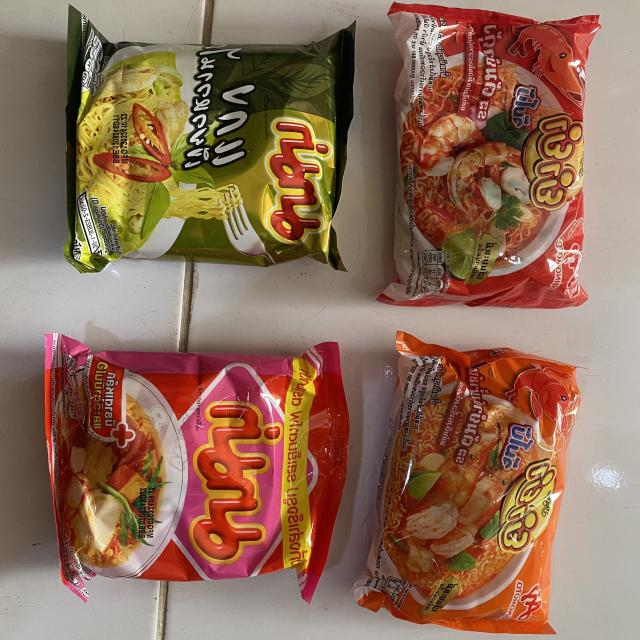plastik: (46, 334, 349, 602), (64, 6, 354, 272), (353, 332, 581, 635), (378, 3, 601, 309)
